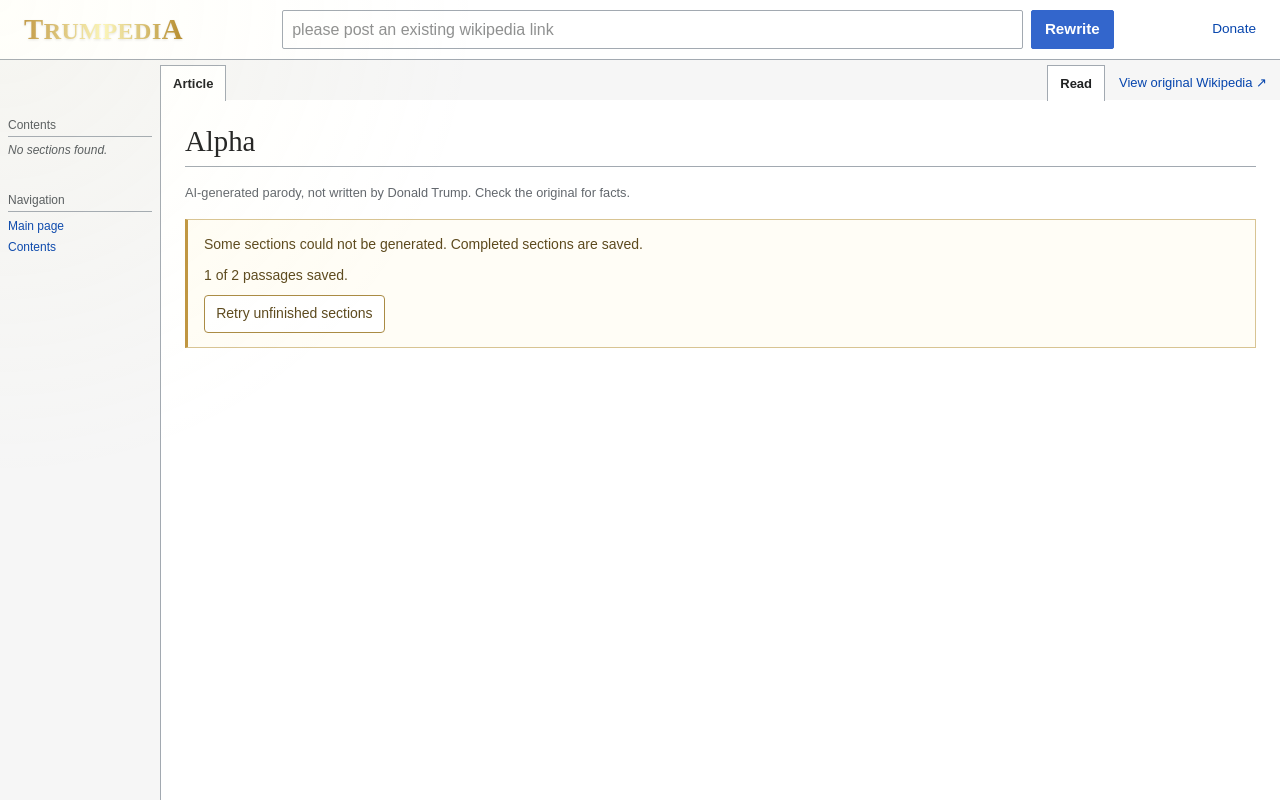
Test: validation failures keep the usual retry action and permanent failures do not offer futile retries
Click the button "Retry unfinished sections".
click(294, 314)  # box [204,295,385,332]
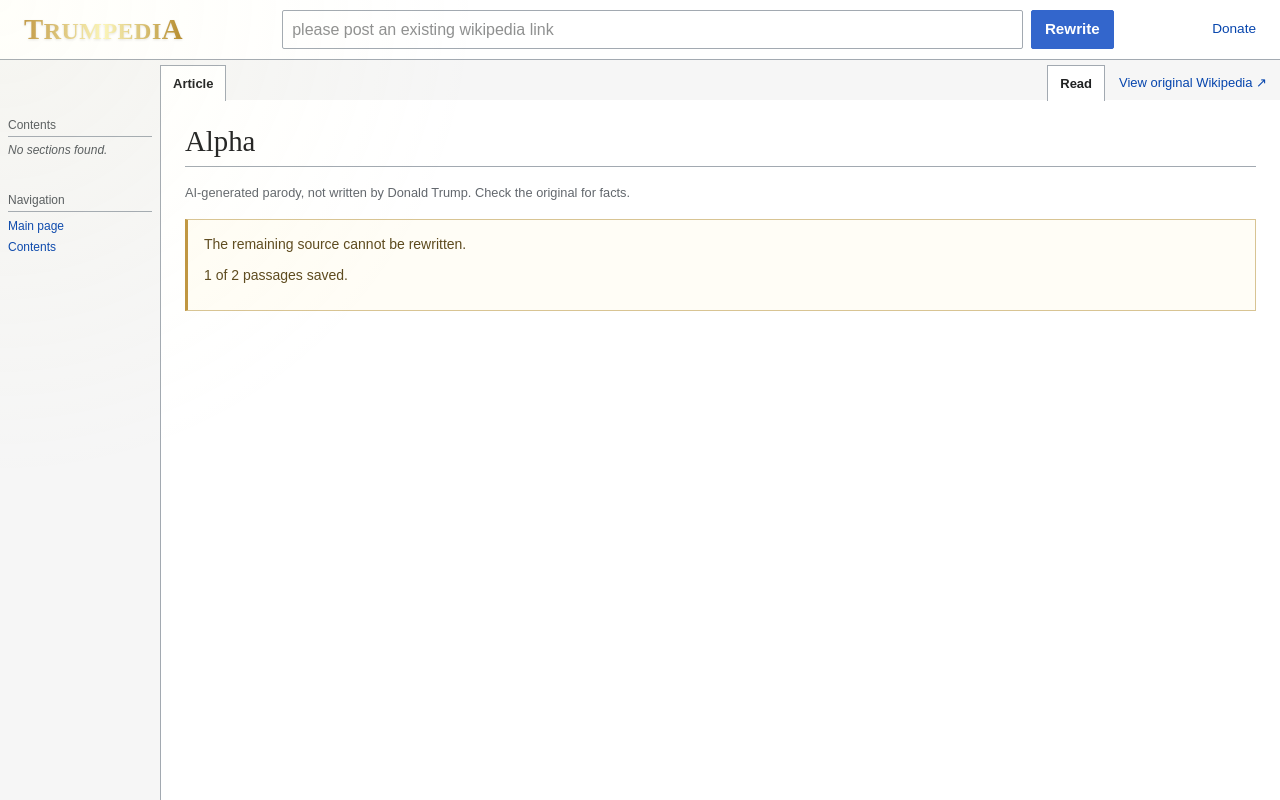
expect the message with class "rewrite-notice" shows "remaining source cannot be rewritten": met, box [204,236,466,252]
